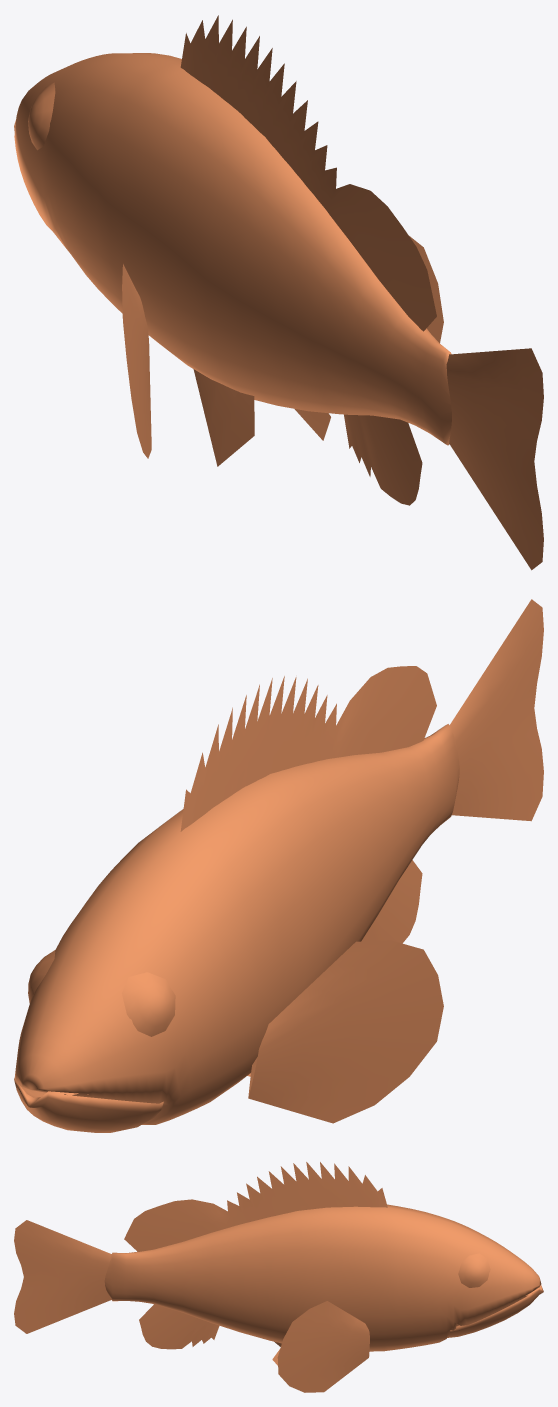
Rendered from rockfish_lo.glb.
3 renders of one model, top to bottom at view 1: azimuth 30°, elevation 25°; view 2: azimuth 150°, elevation 25°; view 3: azimuth 270°, elevation 25°, orthographic. The views are drawn at different scales.
Visible parts, largest first — view 1: rockfish_lo; view 2: rockfish_lo; view 3: rockfish_lo.
Boxes of the visible parts, x1=… form: rockfish_lo: x1=14, y1=15, x2=543, y2=570; rockfish_lo: x1=14, y1=599, x2=543, y2=1132; rockfish_lo: x1=14, y1=1162, x2=543, y2=1392.
Bounding box in the file's own units: 0.1773 × 0.2228 × 0.5059.
